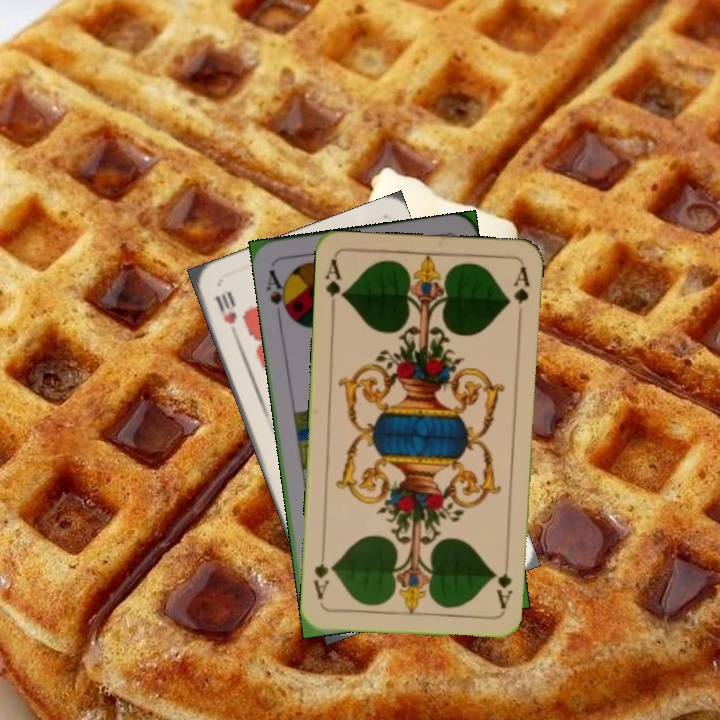GA: (321, 255, 348, 314), (493, 553, 515, 611)
H10: (211, 287, 240, 328)
SA: (262, 265, 294, 322)
